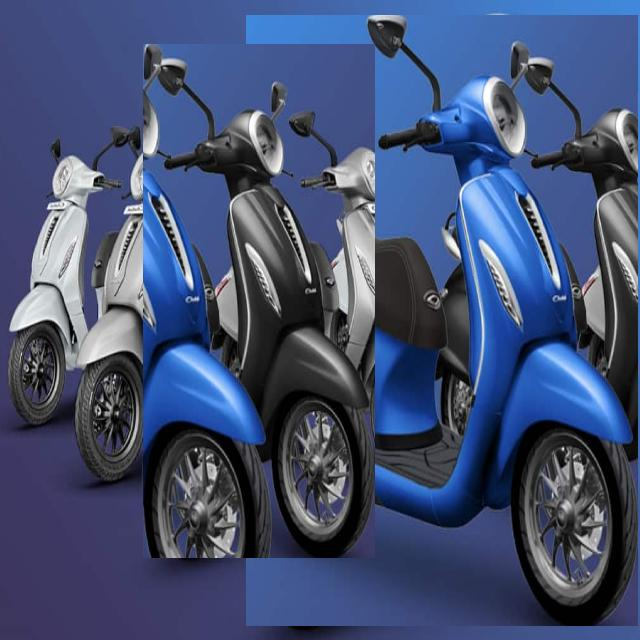motorcycle: (246, 15, 638, 626), (143, 45, 374, 558), (75, 111, 228, 481), (9, 127, 141, 425), (91, 233, 117, 315)
